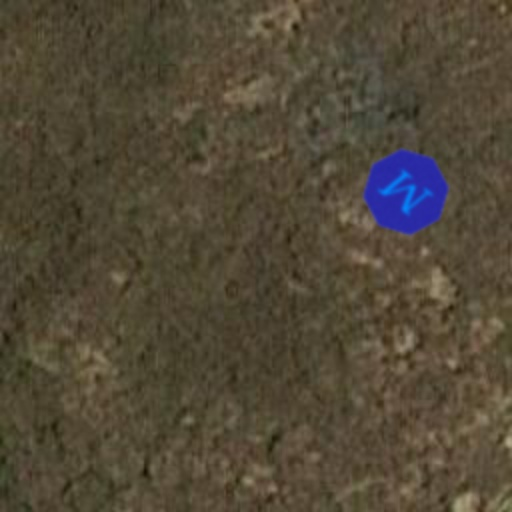octagon: (344, 130, 468, 254)
